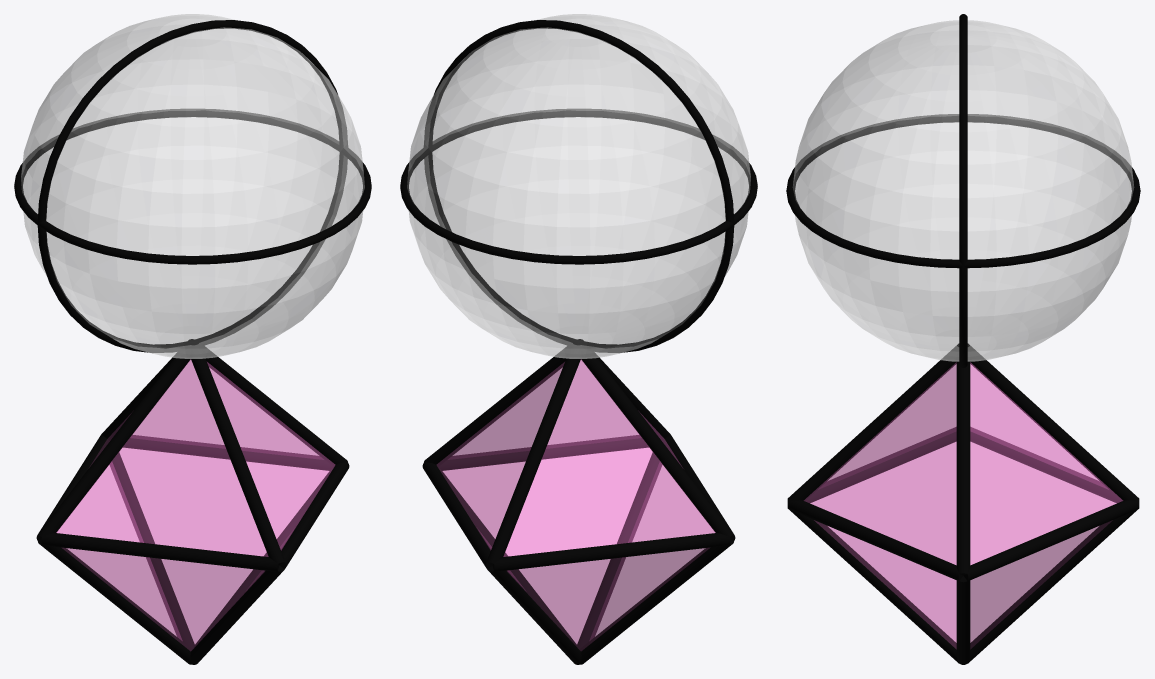
File: sphere on octohedron.fbx
The picture shows the model from 3 angles, left to right: view 1: azimuth 30°, elevation 25°; view 2: azimuth 150°, elevation 25°; view 3: azimuth 270°, elevation 25°; orthographic projection.
Parts seen in each view (by area): view 1: ReferenceSphere, ReferenceOctahedron, PrimeMeridianLine, EquatorLine, OctaEdge.011, OctaEdge.008, OctaEdge.005, OctaEdge, OctaEdge.006, OctaEdge.010, OctaEdge.007, OctaEdge.004 (+4 smaller); view 2: ReferenceSphere, ReferenceOctahedron, PrimeMeridianLine, EquatorLine, OctaEdge.003, OctaEdge.002, OctaEdge.005, OctaEdge.009, OctaEdge.004, OctaEdge.010, OctaEdge.007, OctaEdge.006 (+4 smaller); view 3: ReferenceSphere, ReferenceOctahedron, EquatorLine, OctaEdge.007, PrimeMeridianLine, OctaEdge.002, OctaEdge.008, OctaEdge.004, OctaEdge.006, OctaEdge, OctaEdge.009, OctaEdge.003 (+2 smaller).
Part boxes in pixels (left/top/right/bottom): ReferenceSphere: left=21, top=14, right=364, bottom=358; ReferenceOctahedron: left=56, top=359, right=334, bottom=650; PrimeMeridianLine: left=37, top=20, right=347, bottom=352; EquatorLine: left=14, top=109, right=371, bottom=264; OctaEdge.011: left=41, top=533, right=279, bottom=571; OctaEdge.008: left=190, top=342, right=284, bottom=564; OctaEdge.005: left=38, top=344, right=191, bottom=536; OctaEdge: left=123, top=435, right=332, bottom=470; OctaEdge.006: left=109, top=452, right=194, bottom=648; OctaEdge.010: left=38, top=539, right=191, bottom=664; OctaEdge.007: left=198, top=342, right=347, bottom=466; OctaEdge.004: left=190, top=565, right=284, bottom=664; ReferenceSphere: left=407, top=14, right=750, bottom=358; ReferenceOctahedron: left=437, top=359, right=715, bottom=650; PrimeMeridianLine: left=424, top=20, right=734, bottom=352; EquatorLine: left=400, top=109, right=757, bottom=264; OctaEdge.003: left=492, top=533, right=730, bottom=571; OctaEdge.002: left=487, top=342, right=581, bottom=564; OctaEdge.005: left=580, top=344, right=733, bottom=536; OctaEdge.009: left=439, top=435, right=648, bottom=470; OctaEdge.004: left=577, top=452, right=662, bottom=648; OctaEdge.010: left=580, top=539, right=733, bottom=664; OctaEdge.007: left=424, top=342, right=573, bottom=466; OctaEdge.006: left=487, top=565, right=581, bottom=664; ReferenceSphere: left=792, top=20, right=1134, bottom=361; ReferenceOctahedron: left=804, top=362, right=1122, bottom=648; EquatorLine: left=786, top=114, right=1140, bottom=268; OctaEdge.007: left=956, top=349, right=970, bottom=575; PrimeMeridianLine: left=959, top=14, right=967, bottom=367; OctaEdge.002: left=967, top=343, right=1139, bottom=501; OctaEdge.008: left=787, top=343, right=959, bottom=501; OctaEdge.004: left=787, top=507, right=958, bottom=663; OctaEdge.006: left=968, top=507, right=1139, bottom=663; OctaEdge: left=964, top=500, right=1139, bottom=580; OctaEdge.009: left=787, top=500, right=962, bottom=580; OctaEdge.003: left=970, top=427, right=1139, bottom=502.
Size of the model in its own units: 207 by 408 by 207.
